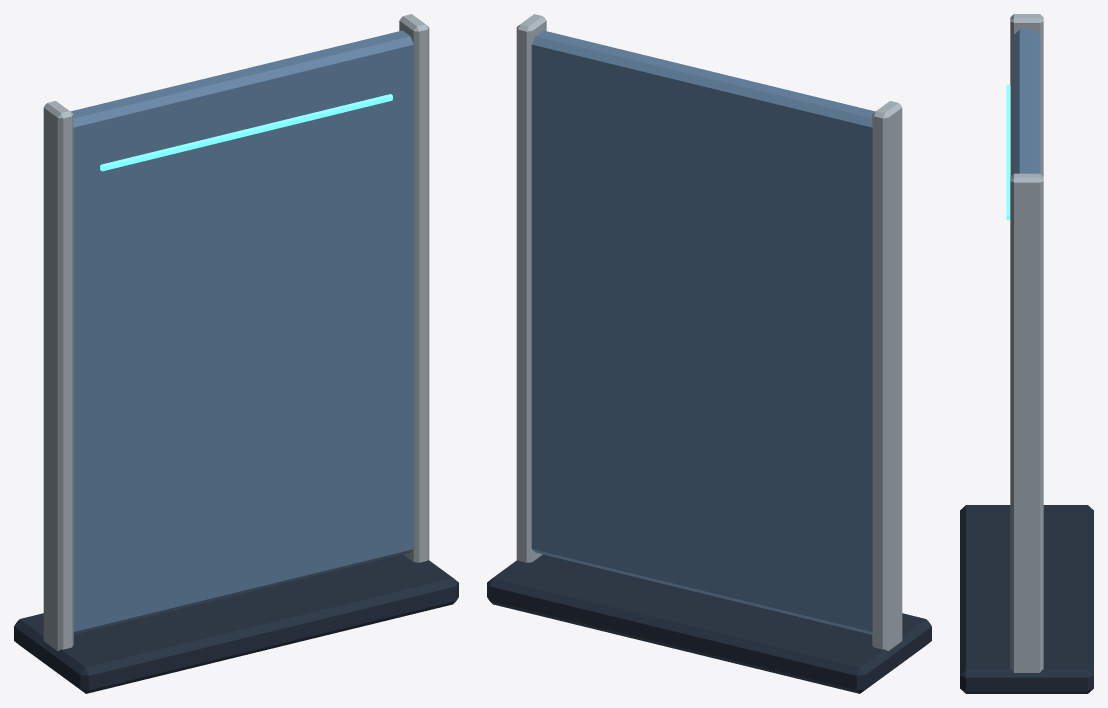
File: decor_11.glb
3 views of the same model, side by side, from view 1: azimuth 30°, elevation 25°; view 2: azimuth 150°, elevation 25°; view 3: azimuth 270°, elevation 25° (orthographic). The views are drawn at different scales.
Parts seen in each view (by area): view 1: PartitionPanel, PartitionFrame (×2), PrivacyBase, PartitionLight; view 2: PartitionPanel, PartitionFrame (×2), PrivacyBase; view 3: PrivacyBase, PartitionFrame (×2), PartitionPanel, PartitionLight.
Boxes of the visible parts, x1=… form: PartitionPanel: x1=70, y1=30, x2=414, y2=634; PartitionFrame (×2): x1=43, y1=14, x2=429, y2=650; PrivacyBase: x1=14, y1=554, x2=458, y2=693; PartitionLight: x1=100, y1=94, x2=392, y2=171; PartitionPanel: x1=531, y1=30, x2=875, y2=634; PartitionFrame (×2): x1=516, y1=14, x2=902, y2=650; PrivacyBase: x1=487, y1=554, x2=931, y2=693; PrivacyBase: x1=960, y1=505, x2=1093, y2=693; PartitionFrame (×2): x1=1010, y1=14, x2=1043, y2=672; PartitionPanel: x1=1013, y1=29, x2=1040, y2=173; PartitionLight: x1=1006, y1=84, x2=1010, y2=220.
Size of the model in its own units: 1.2 by 1.7 by 0.4.
